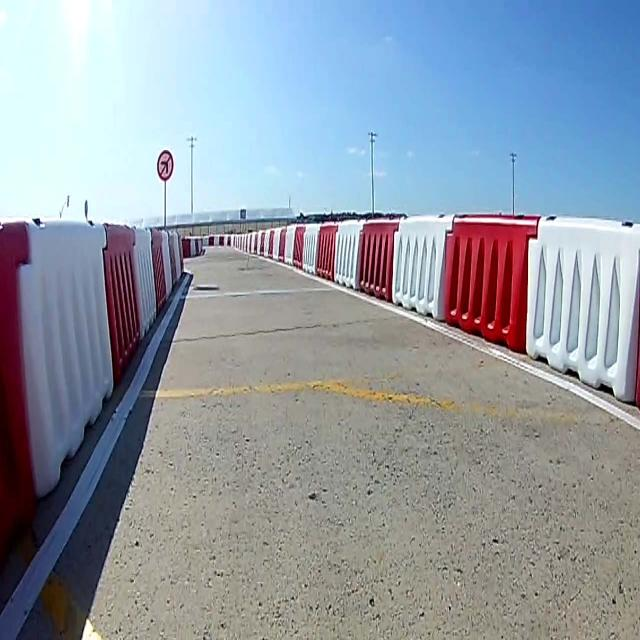soladonulmez: (156, 148, 174, 182)
